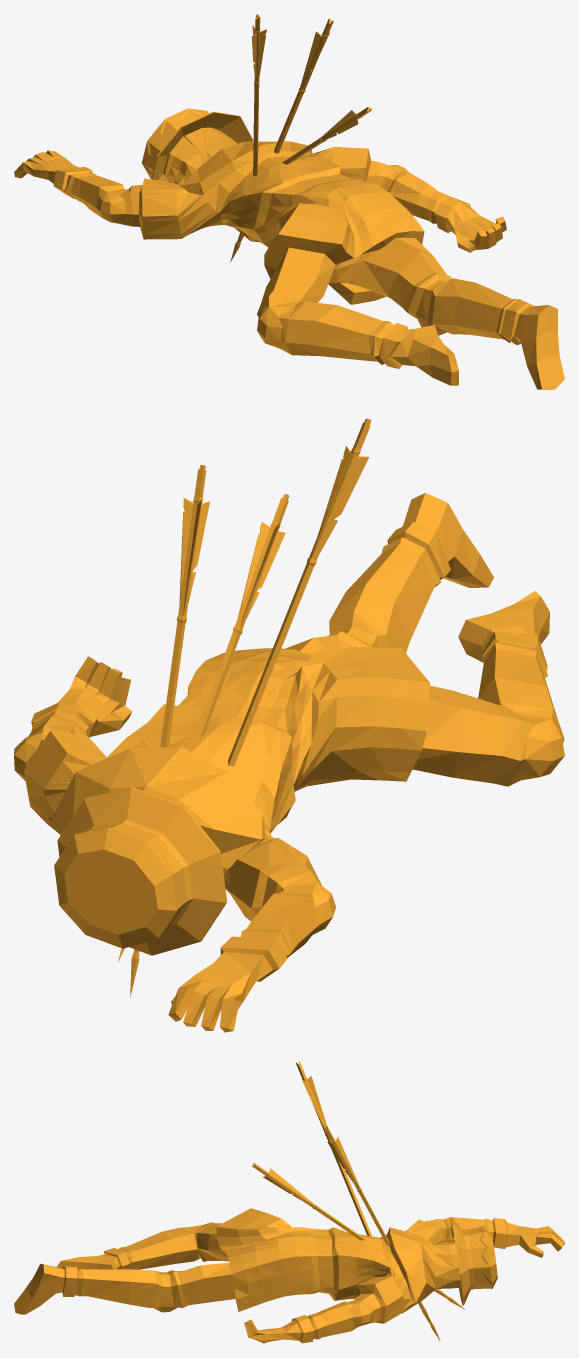
The model's file is SM_Corpse_Human_Soldier_A_Fantasy.fbx.
3 views of the same model, one above another, from view 1: azimuth 30°, elevation 25°; view 2: azimuth 150°, elevation 25°; view 3: azimuth 270°, elevation 25° (orthographic). The views are drawn at different scales.
Visible parts, largest first — view 1: corpse-human-soldier-a-body-fantasy, corpse-human-soldier-a-weapon-fantasy; view 2: corpse-human-soldier-a-body-fantasy, corpse-human-soldier-a-weapon-fantasy; view 3: corpse-human-soldier-a-body-fantasy, corpse-human-soldier-a-weapon-fantasy.
Boxes of the visible parts, x1,y1,x2,y2 form: corpse-human-soldier-a-body-fantasy: [14, 108, 564, 389]; corpse-human-soldier-a-weapon-fantasy: [230, 14, 371, 262]; corpse-human-soldier-a-body-fantasy: [14, 493, 564, 1032]; corpse-human-soldier-a-weapon-fantasy: [118, 418, 371, 998]; corpse-human-soldier-a-body-fantasy: [14, 1208, 564, 1343]; corpse-human-soldier-a-weapon-fantasy: [252, 1061, 465, 1341].
Bounding box in the file's own units: 1.02 × 1.09 × 2.13.
